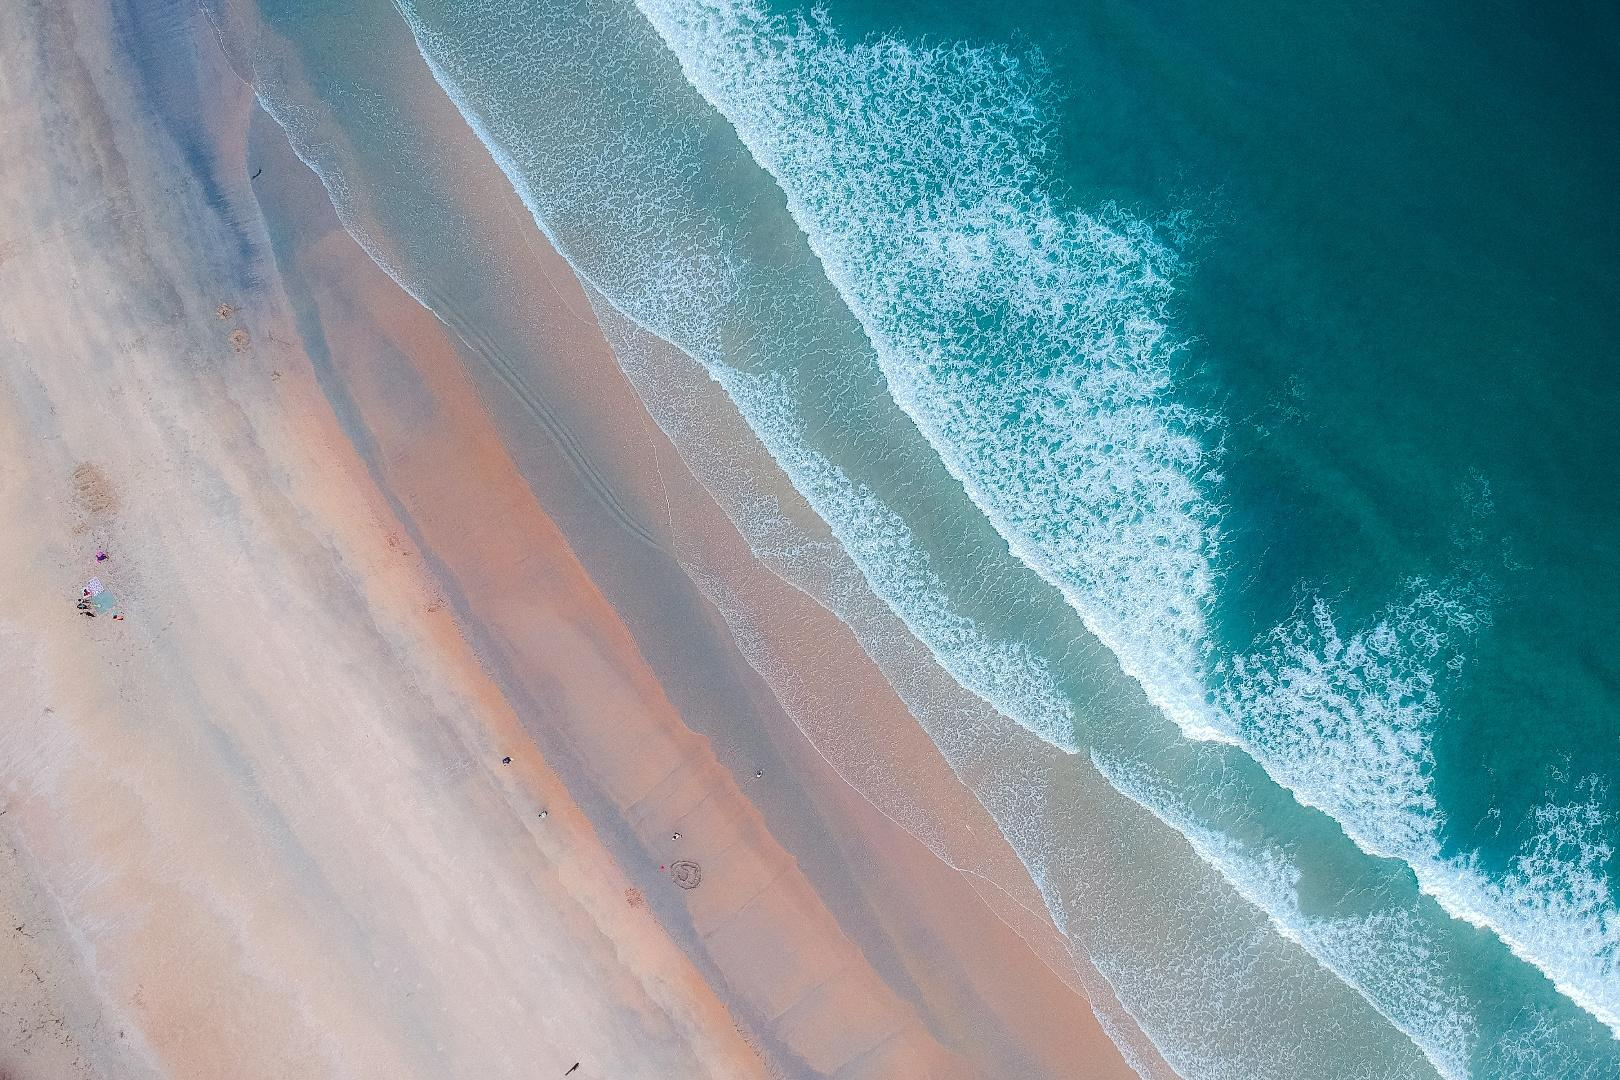clothes: (403, 1069, 788, 1080)
